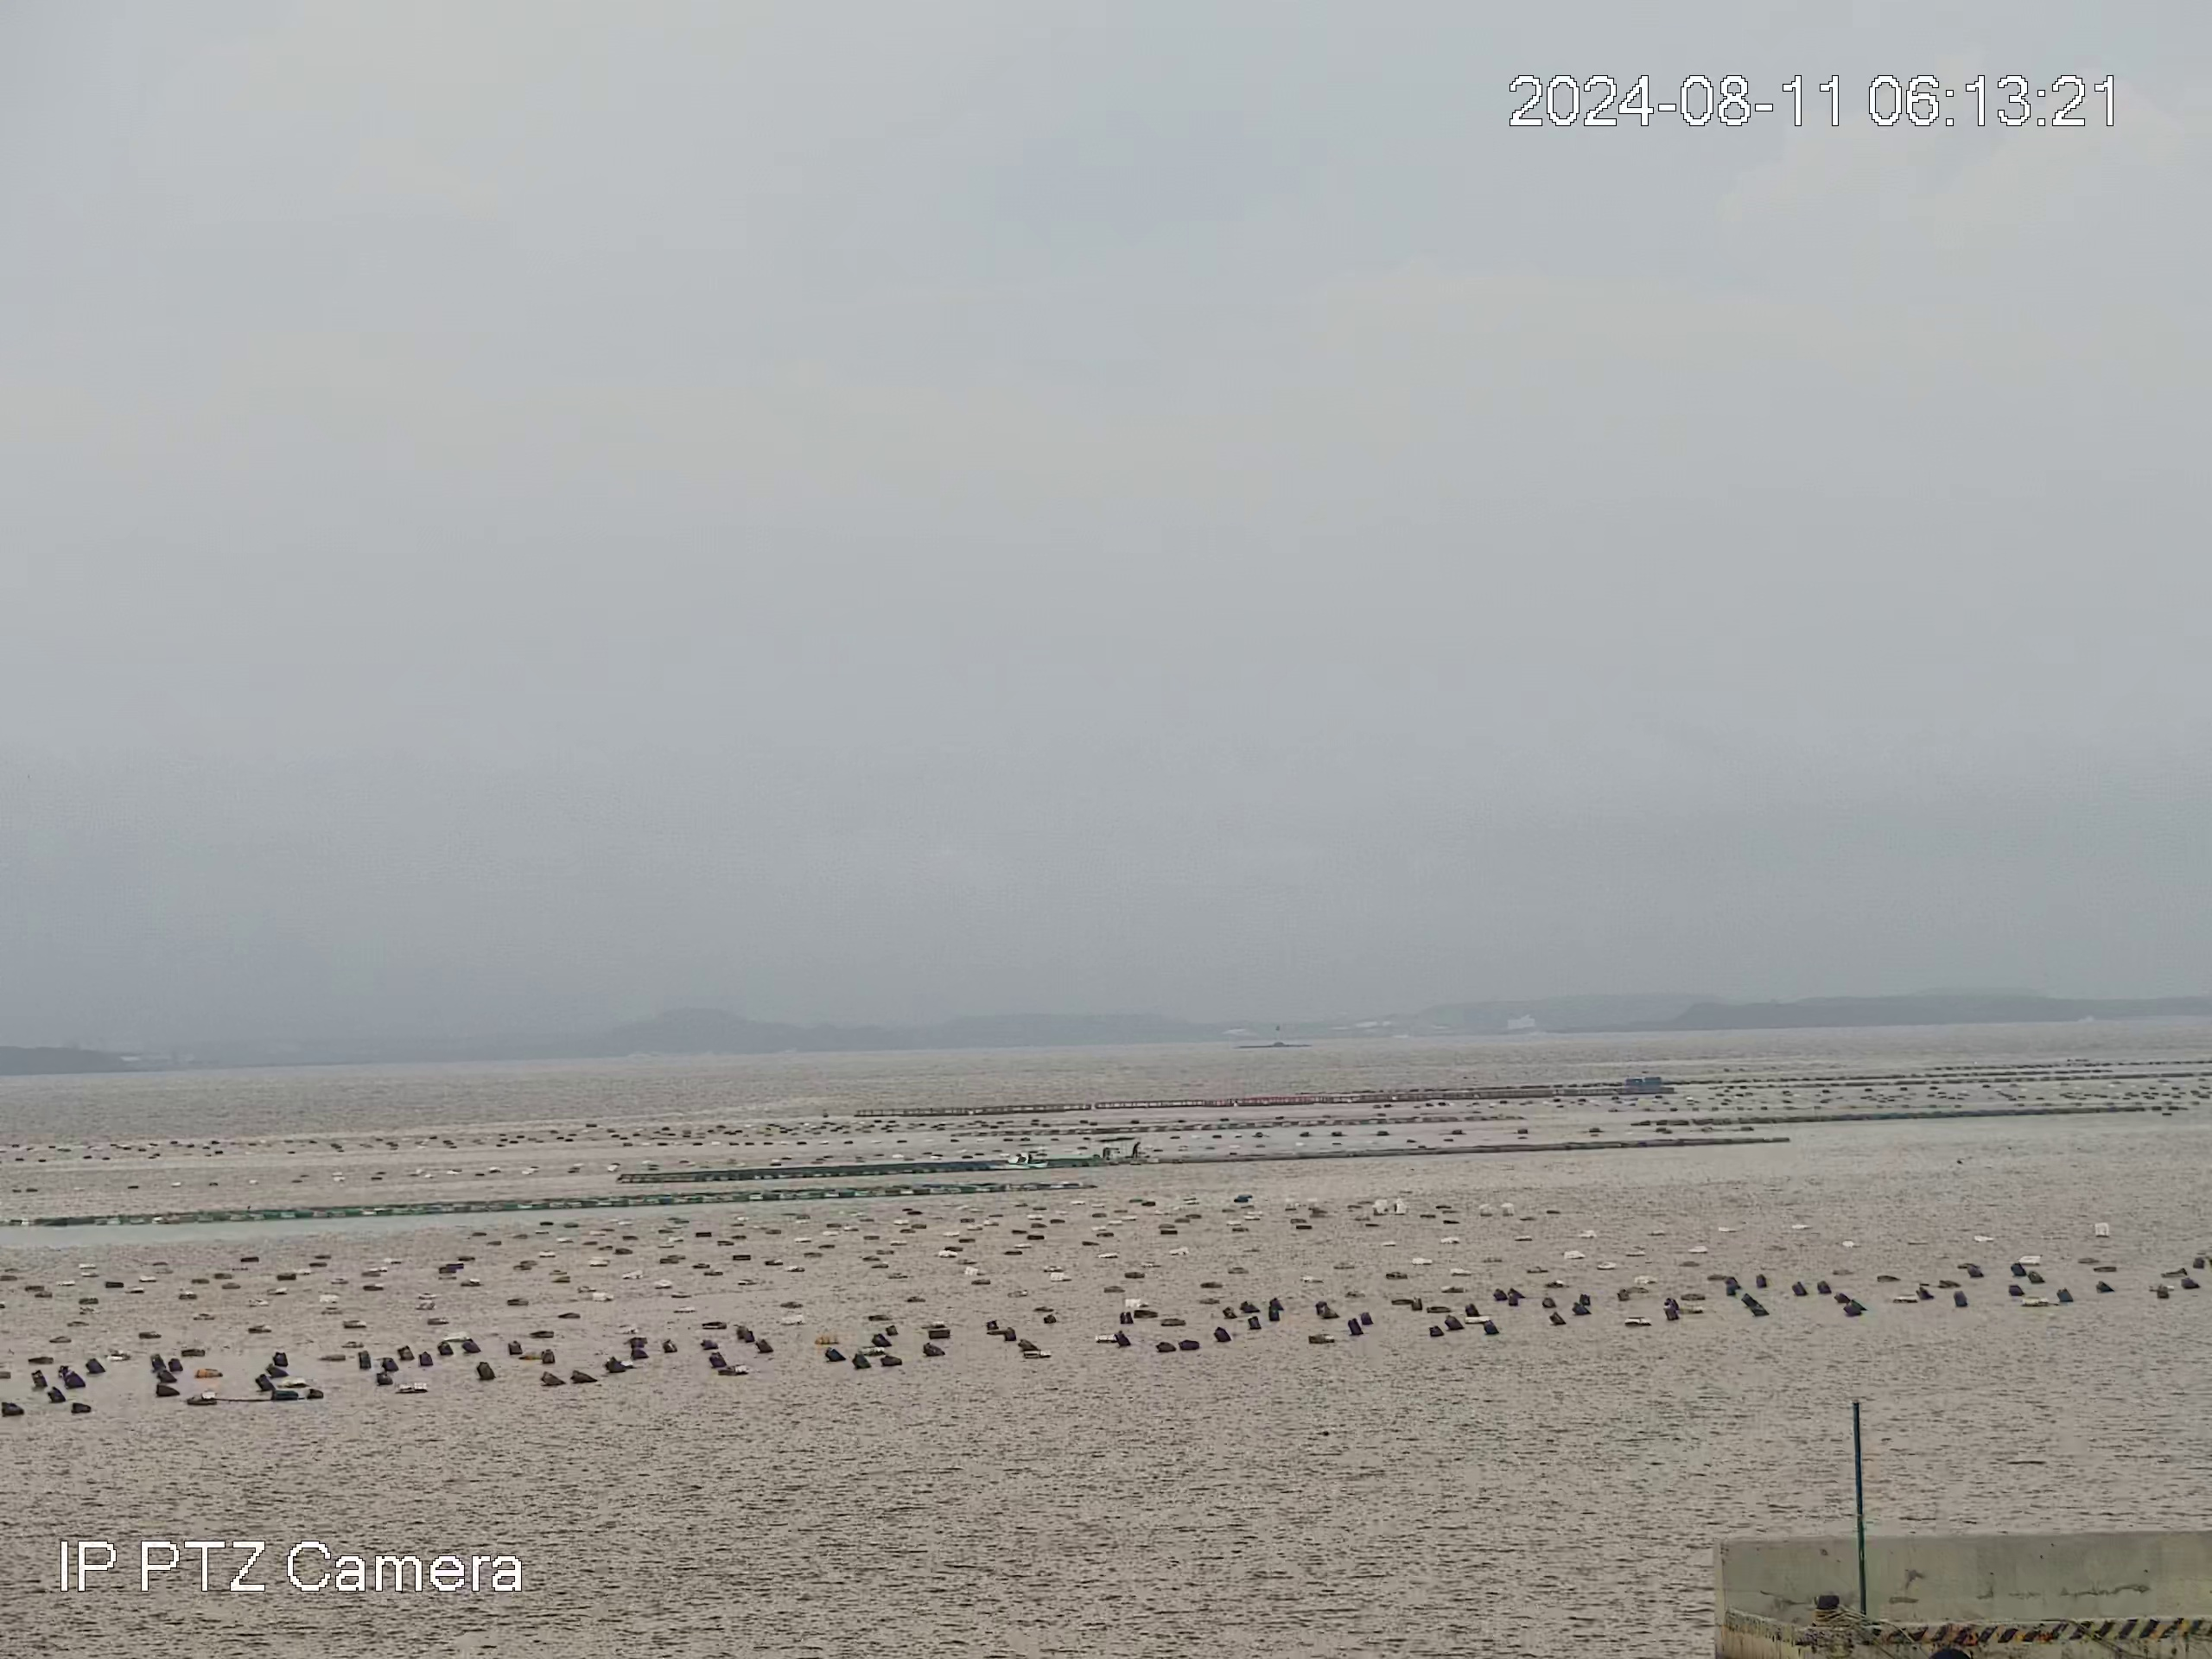boat: (981, 1148, 1052, 1171)
